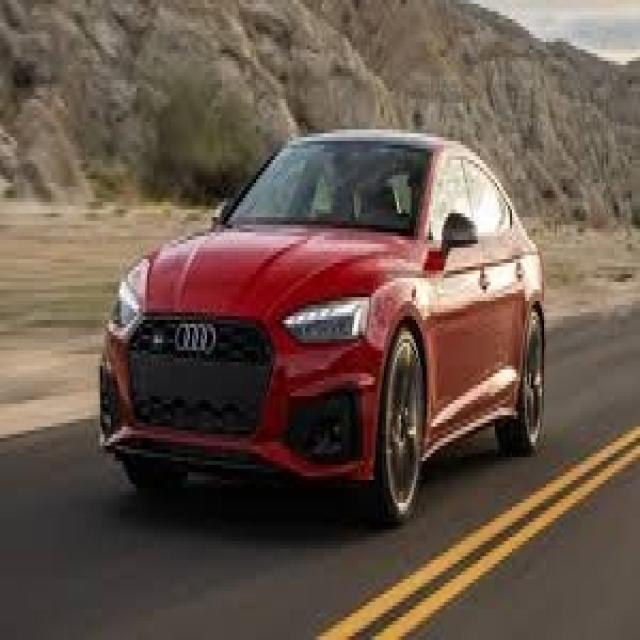red: (100, 122, 535, 496)
